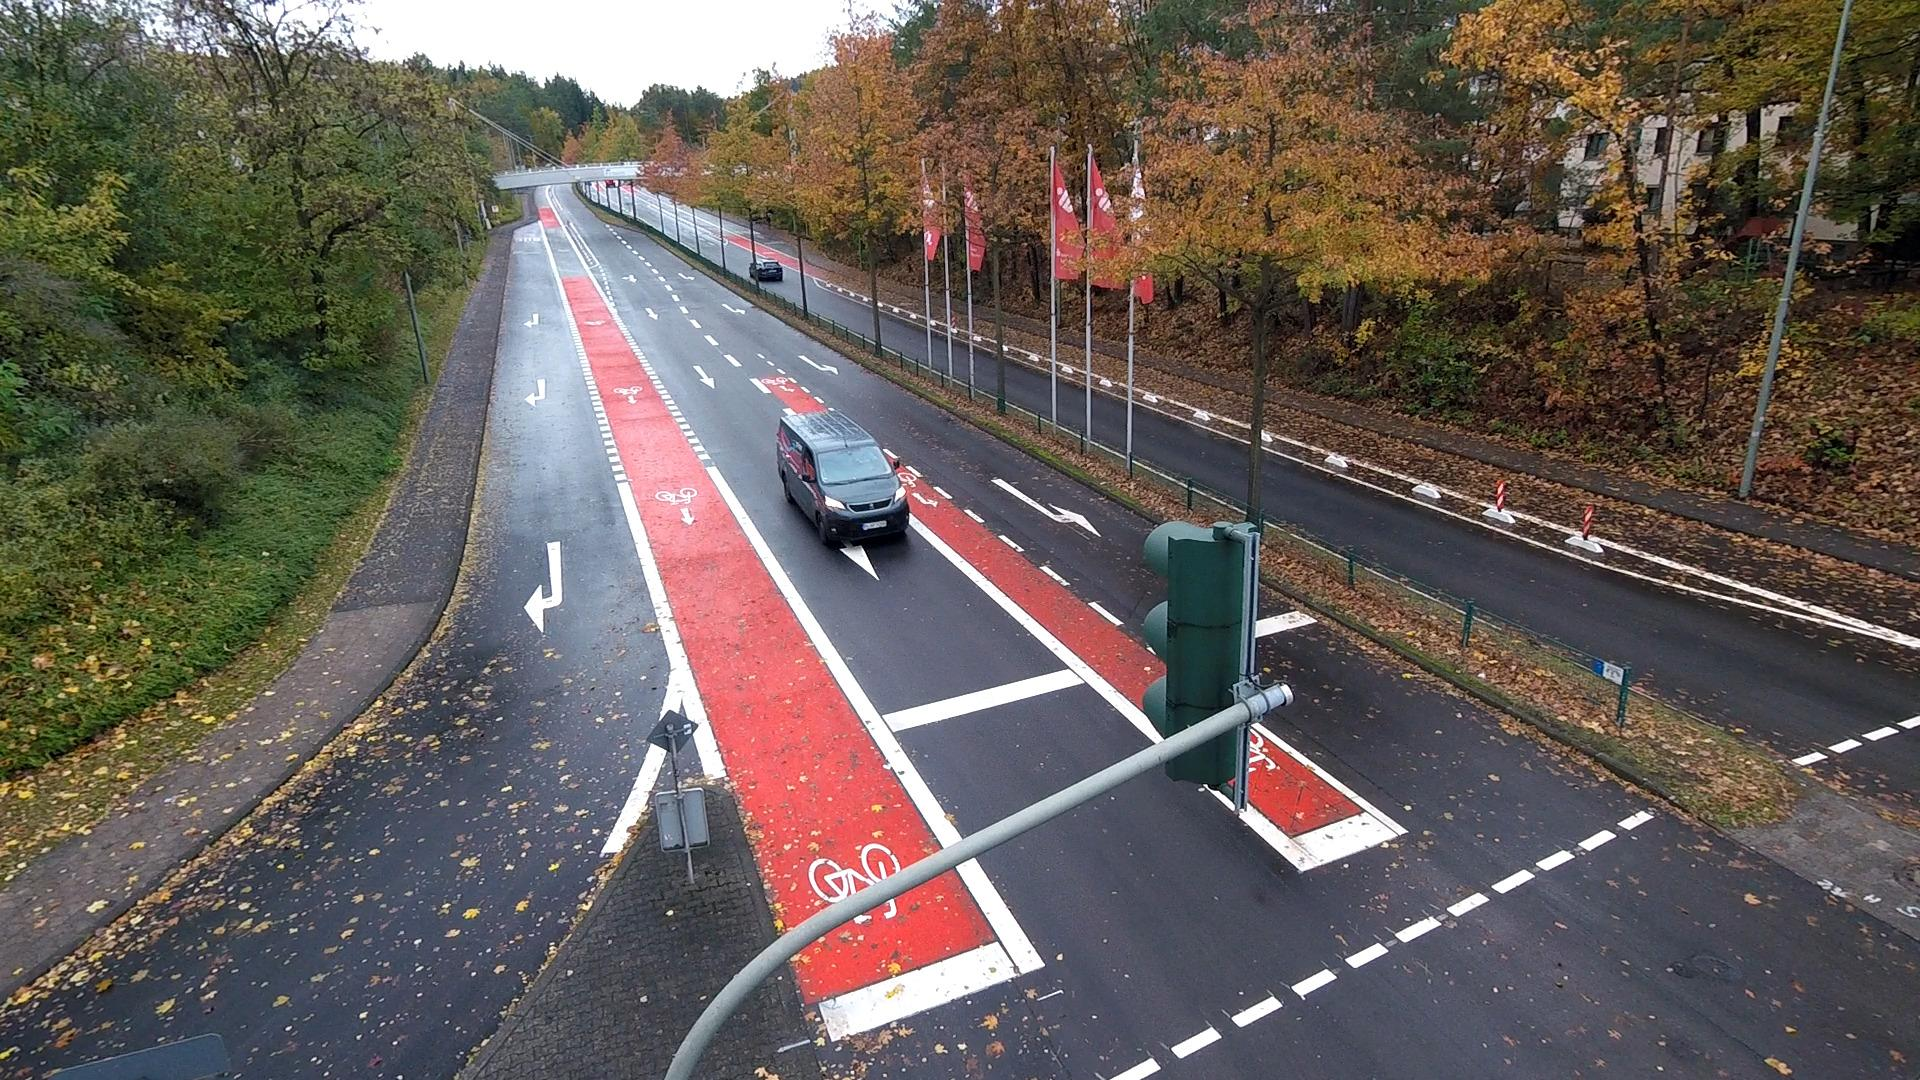bicycle-lane: (533, 185, 963, 936), (1262, 400, 1920, 641), (884, 447, 1167, 745), (785, 858, 1048, 1048), (1204, 721, 1410, 872), (1131, 363, 1254, 426), (727, 351, 828, 414), (804, 261, 873, 299), (1002, 324, 1052, 360), (877, 285, 927, 318), (752, 239, 800, 272), (1091, 348, 1127, 385), (1054, 340, 1087, 371), (972, 315, 998, 340), (724, 227, 752, 251), (695, 215, 721, 239), (634, 187, 659, 206), (949, 309, 969, 331), (930, 303, 948, 326), (676, 208, 694, 225), (661, 202, 675, 215), (621, 182, 630, 193)
car: (777, 404, 909, 547), (604, 181, 616, 187)
car-lane: (0, 215, 670, 1080), (810, 579, 1919, 1080), (556, 185, 1071, 715), (1261, 448, 1920, 827), (605, 225, 1166, 640), (1131, 401, 1251, 512), (804, 270, 876, 342), (1004, 355, 1052, 419), (878, 310, 927, 367), (1091, 388, 1127, 456), (1056, 373, 1088, 436), (758, 265, 803, 309), (721, 241, 757, 286), (973, 344, 998, 398), (753, 229, 799, 258), (696, 228, 724, 269), (634, 195, 662, 232), (930, 328, 951, 375), (952, 336, 971, 385), (678, 216, 698, 253), (723, 218, 752, 239), (694, 207, 720, 227), (662, 211, 678, 241), (620, 186, 634, 216), (582, 182, 599, 202), (608, 187, 621, 211), (658, 194, 675, 208), (599, 182, 608, 207), (675, 200, 692, 214), (641, 186, 657, 198), (756, 253, 770, 260)
